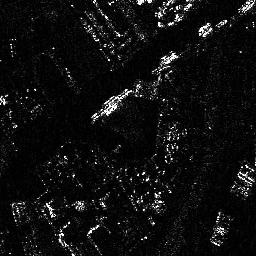ship: (236, 1, 256, 12)
